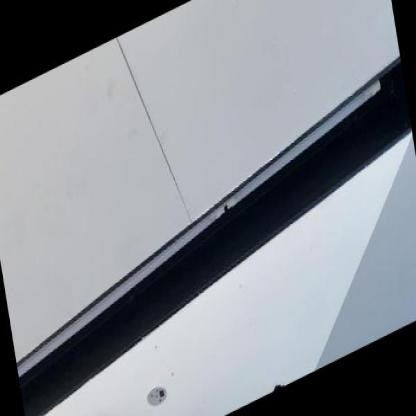light_off: (0, 46, 407, 409)
